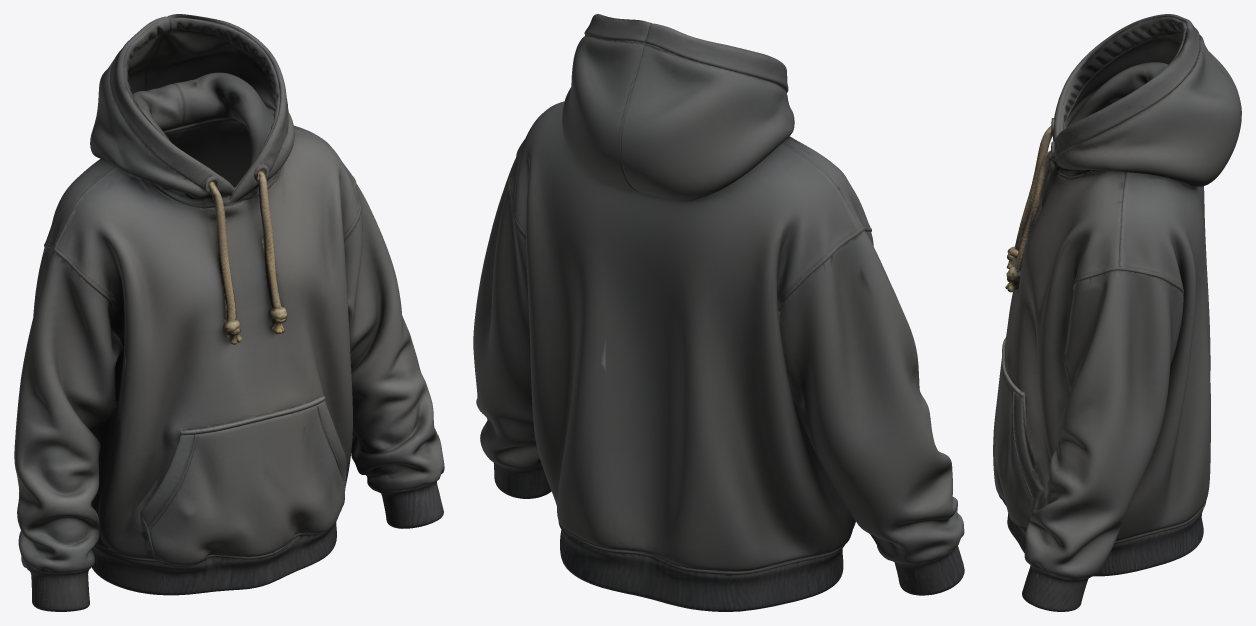
Rendered from hoodie.glb.
3 renders of one model, left to right at view 1: azimuth 30°, elevation 25°; view 2: azimuth 150°, elevation 25°; view 3: azimuth 270°, elevation 25°, orthographic. The views are drawn at different scales.
Visible parts, largest first — view 1: node_0; view 2: node_0; view 3: node_0.
Part boxes in pixels (x1,y1,x2,y2): node_0: (14, 14, 444, 611); node_0: (473, 14, 964, 611); node_0: (993, 14, 1241, 611).
Size of the model in its own units: 0.8032 by 0.9296 by 0.4201.
1 material, 1 textured.
